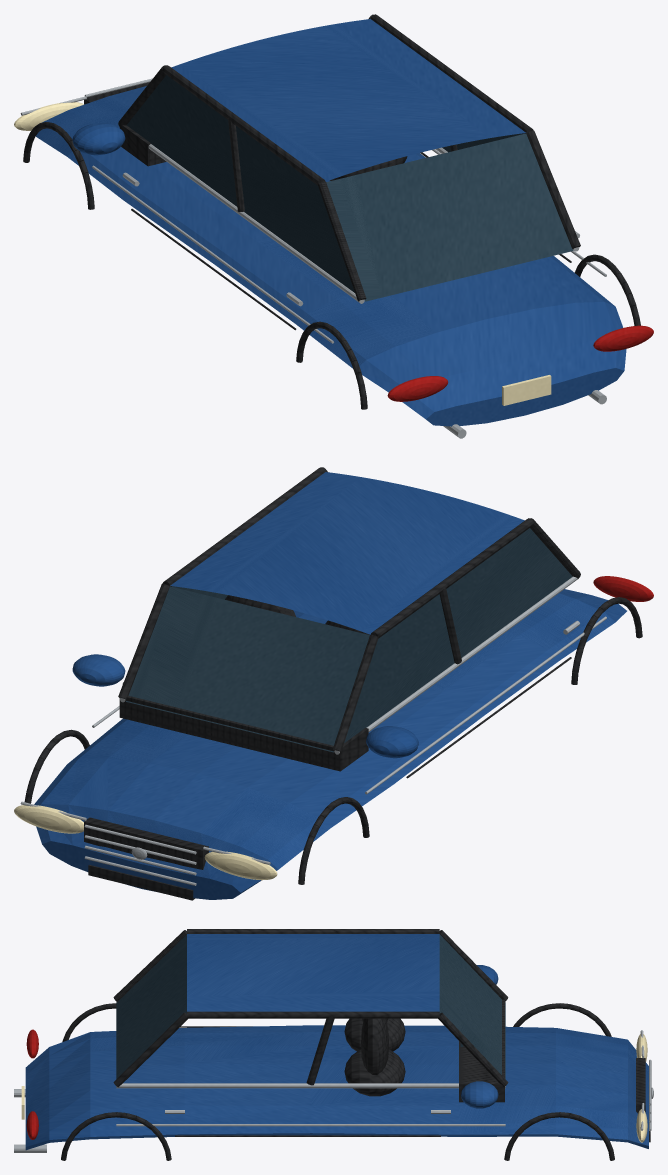
The model's file is sedan_v18_shell.glb.
The picture shows the model from 3 angles, top to bottom: view 1: azimuth 30°, elevation 25°; view 2: azimuth 150°, elevation 25°; view 3: azimuth 270°, elevation 25°; orthographic projection. The views are drawn at different scales.
Parts seen in each view (by area): view 1: bluepaint, glass, rubber, chrome, red, white; view 2: bluepaint, glass, rubber, chrome, white, red; view 3: bluepaint, rubber, glass, chrome, white, red.
Boxes of the visible parts, x1,y1,x2,y2 form: bluepaint: (35,19,626,426); glass: (126,75,573,301); rubber: (23,14,640,409); chrome: (20,78,606,438); red: (387,325,653,401); white: (14,102,551,405); bluepaint: (34,472,626,899); glass: (126,528,572,752); rubber: (24,467,642,900); chrome: (20,576,606,885); white: (14,805,277,880); red: (593,576,653,601); bluepaint: (25,934,648,1150); rubber: (61,929,650,1160); glass: (116,934,505,1078); chrome: (14,1001,653,1152); white: (21,1034,647,1142); red: (26,1029,38,1139).
Bounding box in the file's own units: 2.71 × 1.47 × 5.44.
6 materials, 6 textured.
